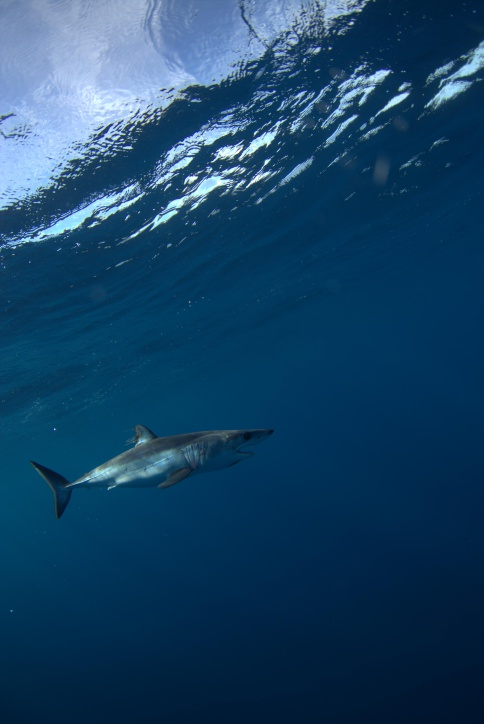Mako: (25, 415, 286, 539)
